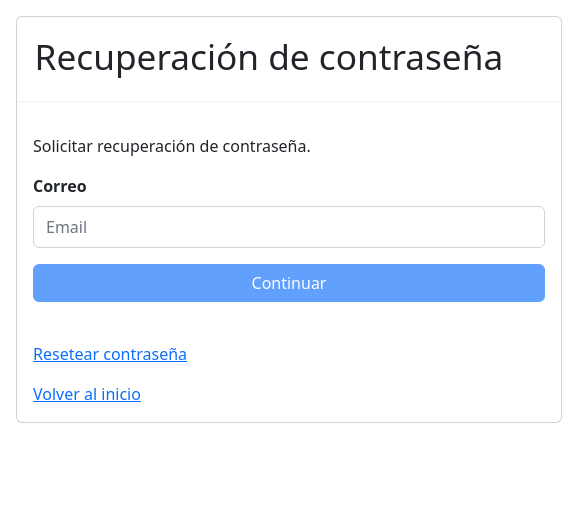
Test case: RequestReset › Unsuccessful reset displays message
Type "triton@example.com" into the field with placeholder "Email" at (289, 227), box [33,206,545,248]
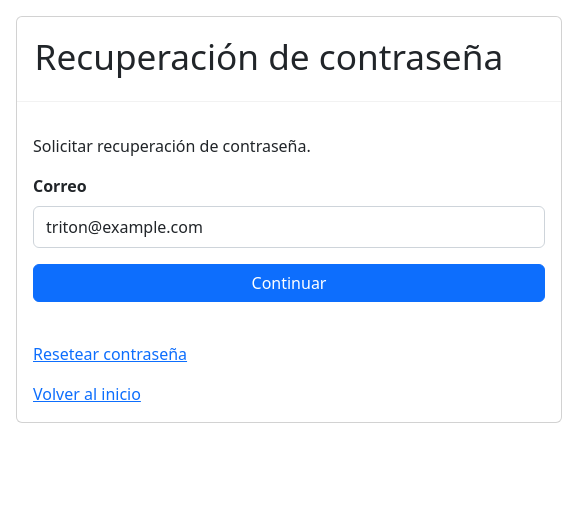
Click the button at (289, 283), box [33,264,545,302]
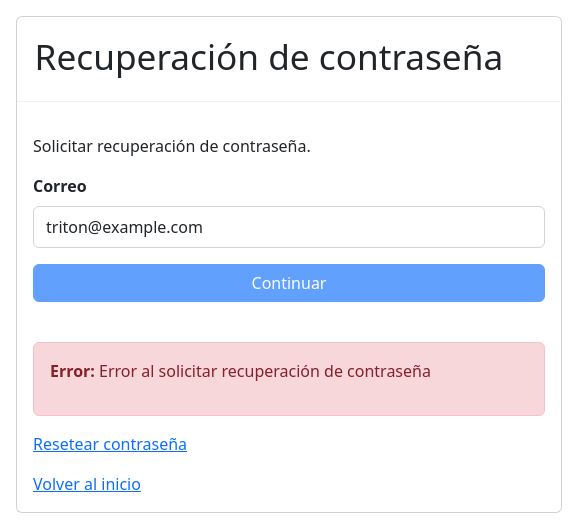
Check: the text "Error: Error al solicitar recuperación de contraseña" is shown, box [50,360,431,382]
